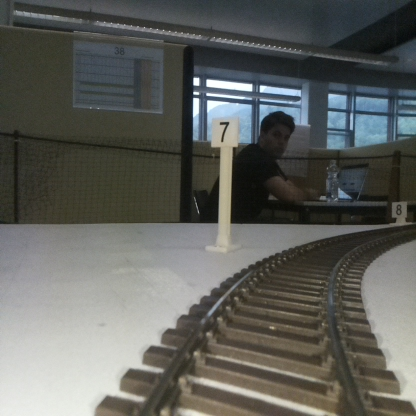white-info-7: (212, 118, 237, 250)
white-stop-8: (392, 201, 407, 224)
